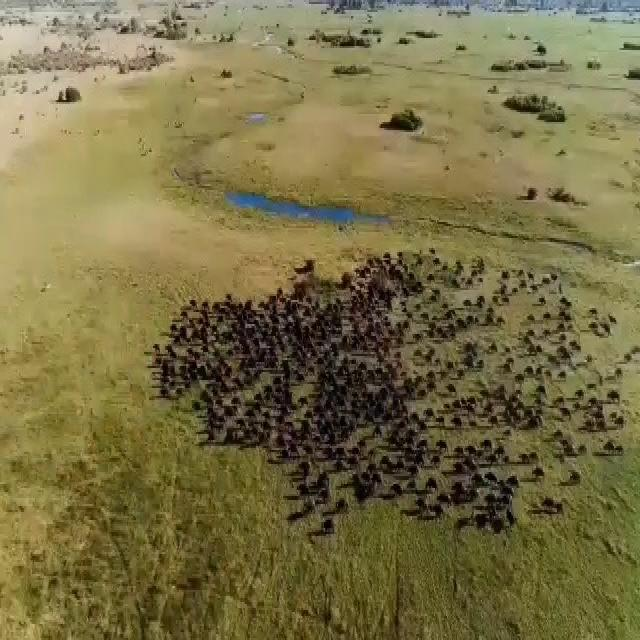Buffalo: (373, 364, 404, 420), (326, 362, 359, 413), (216, 342, 251, 384), (300, 327, 347, 357), (346, 293, 374, 339), (453, 458, 479, 498), (384, 274, 410, 314), (297, 293, 331, 323), (326, 433, 352, 470), (168, 367, 200, 397), (413, 470, 441, 504), (395, 432, 431, 458), (482, 482, 508, 518), (206, 413, 238, 441), (493, 279, 531, 302), (265, 382, 299, 405), (508, 400, 533, 431), (250, 329, 288, 348), (253, 298, 271, 338), (422, 354, 439, 394), (452, 304, 472, 332), (450, 395, 468, 422), (307, 419, 323, 449), (301, 470, 321, 493), (274, 350, 294, 372), (247, 410, 265, 432), (284, 419, 298, 441), (466, 252, 476, 280), (197, 333, 206, 352)
